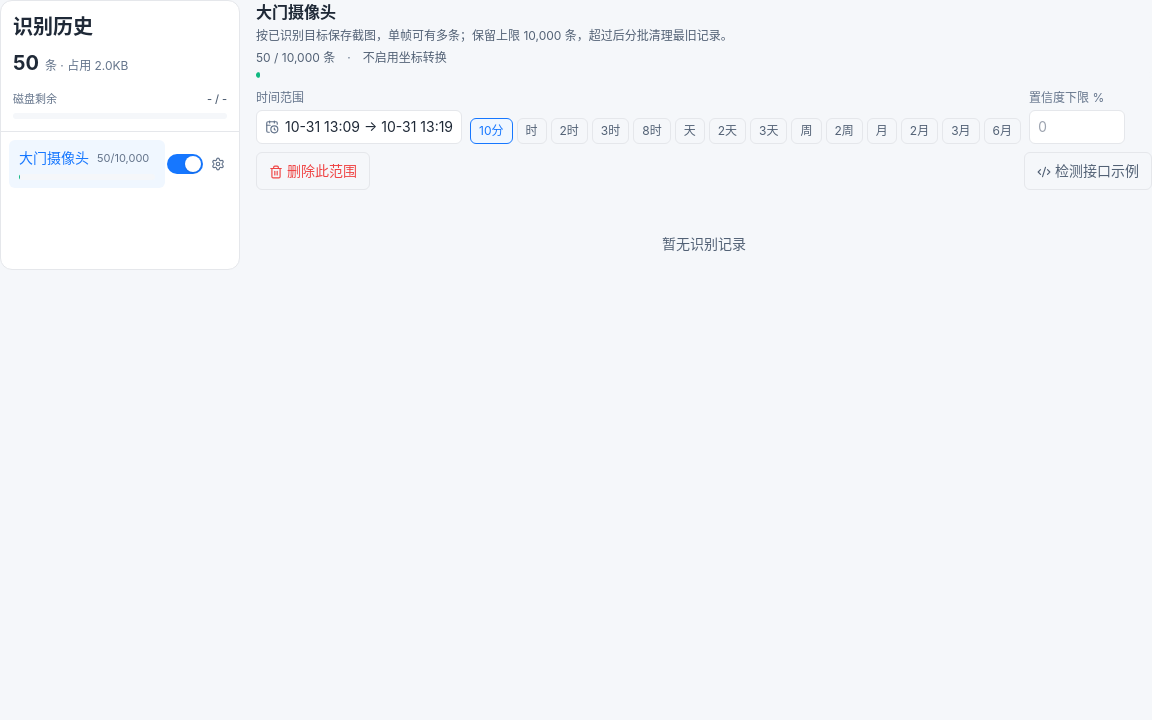
Test: RecognitionHistoryPage —— 时间范围弹窗（统一走"范围变化触发搜索"） › 点击"取消"——关闭弹窗，不改变当前范围，不重新搜索
The image size is (1152, 720).
What coordinates should you click on to do the following:
click the button with test id "range-trigger"
I would click on:
 (359, 127)
Its box is [256,110,462,144].
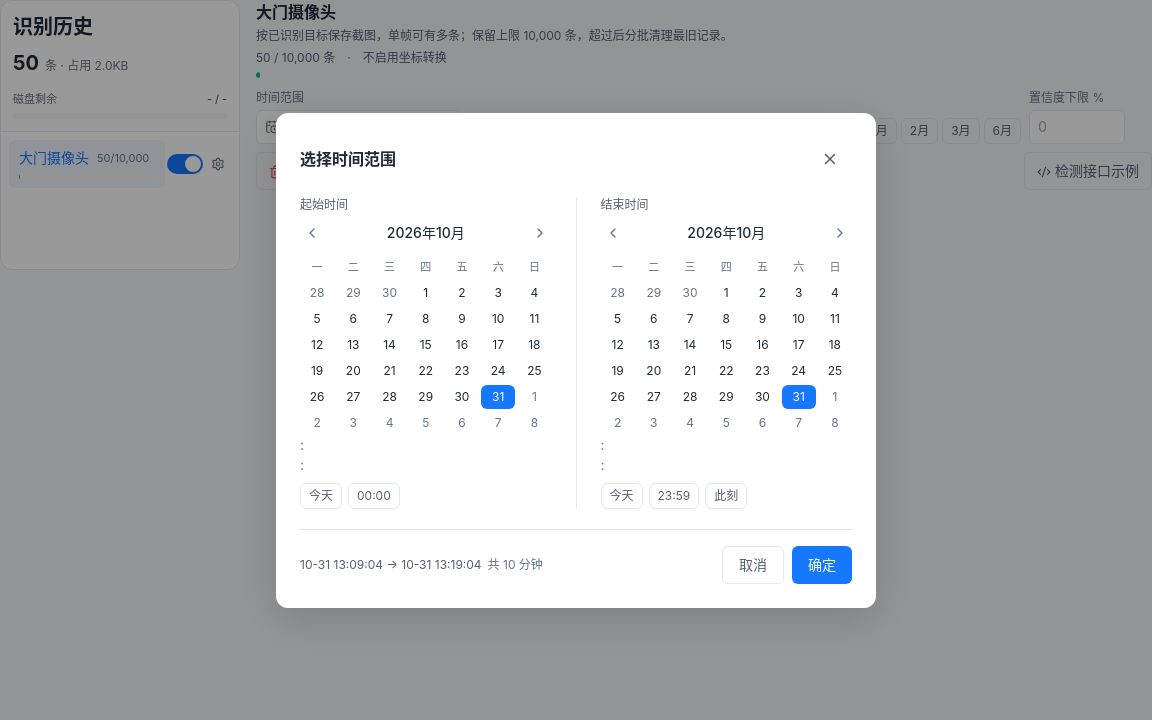
Expected: the dialog is shown
What coordinates should you click on to do the following:
click the button with test id "range-picker-cancel"
I would click on:
 (753, 564)
Its box is [722,546,784,584].
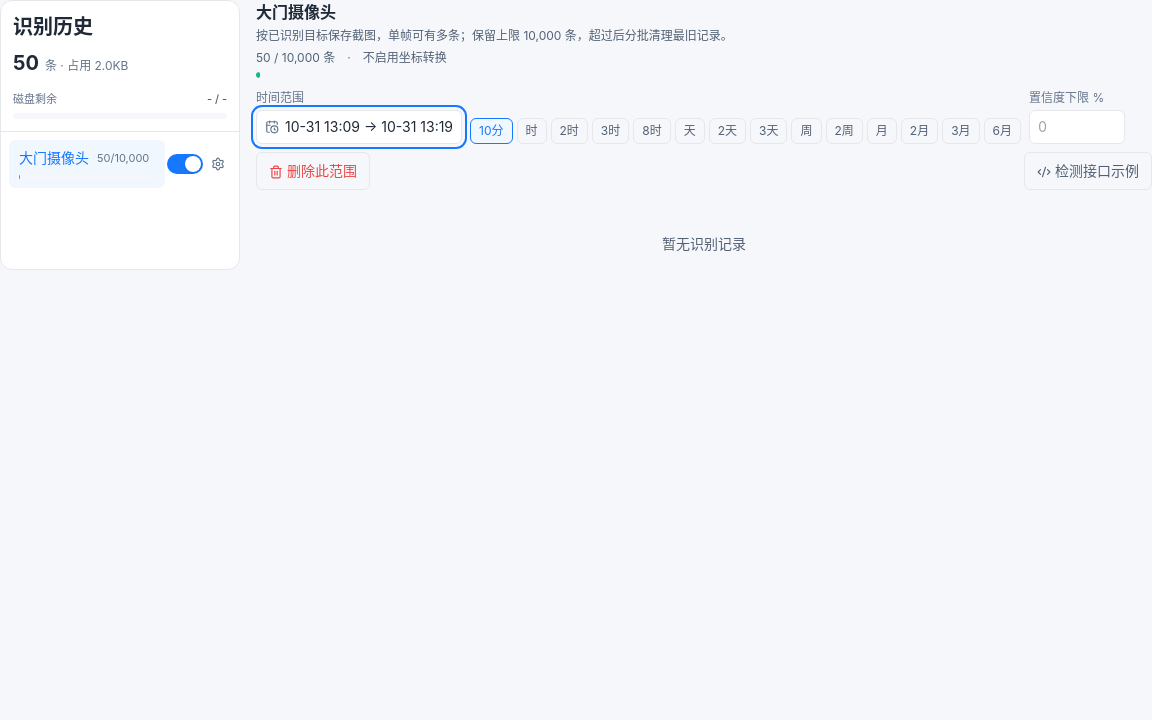
Expected: the dialog is gone
